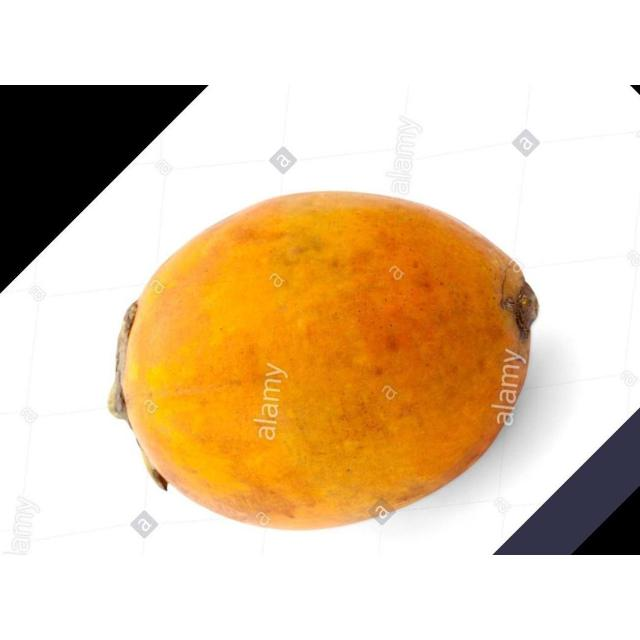good: (117, 191, 540, 533)
